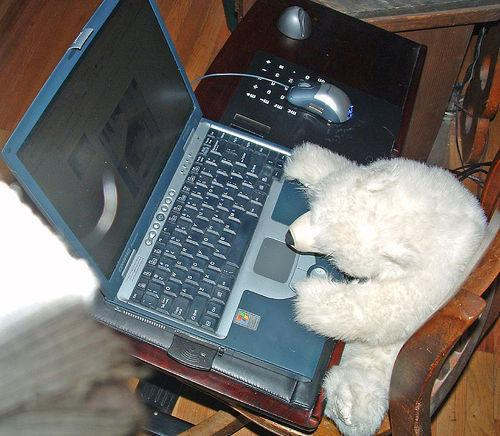tv: (0, 1, 210, 299)
